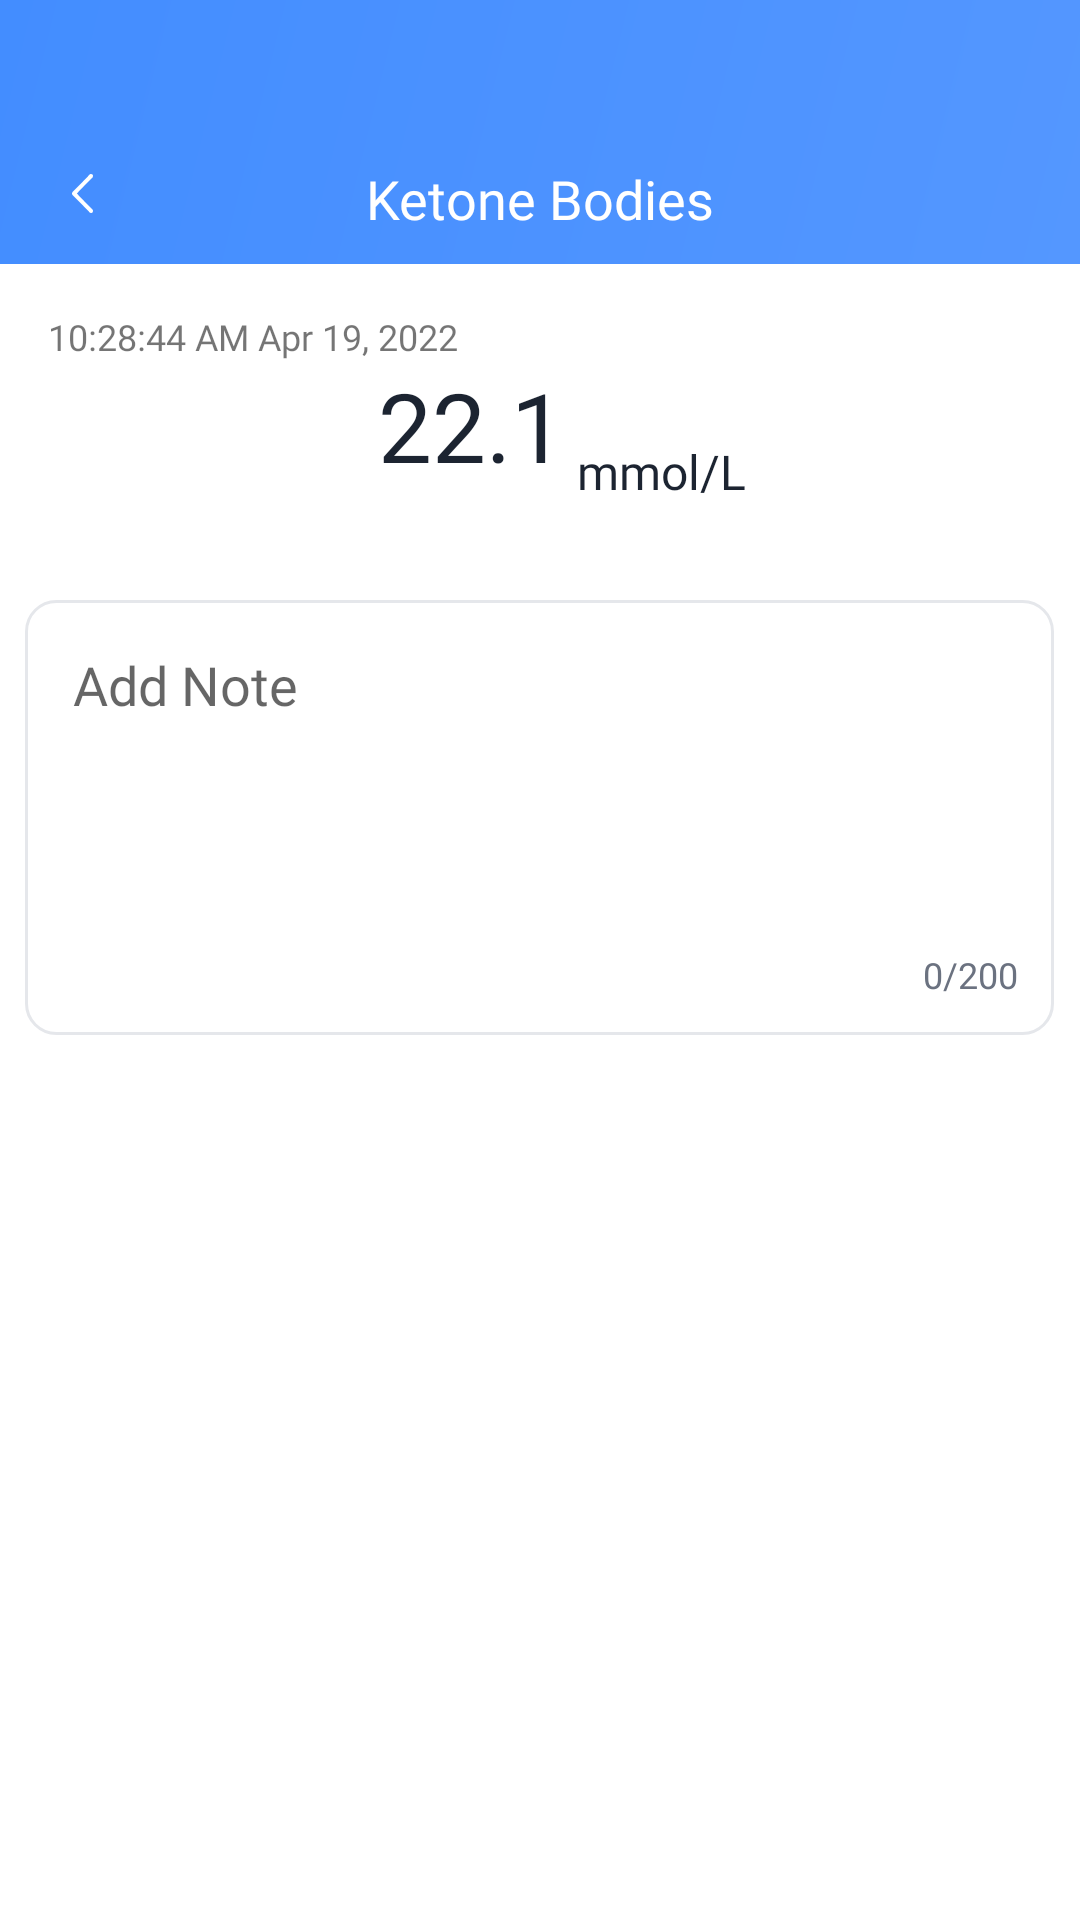

Screen size 1080 x 1920. Icon name, then its center in pixels as (x=x, y=y):
left: (x=82, y=193)
